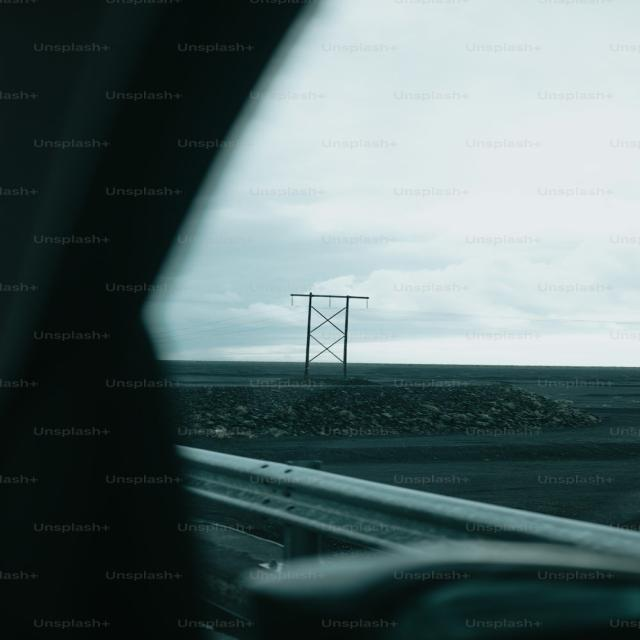transmission tower: (256, 267, 417, 394)
